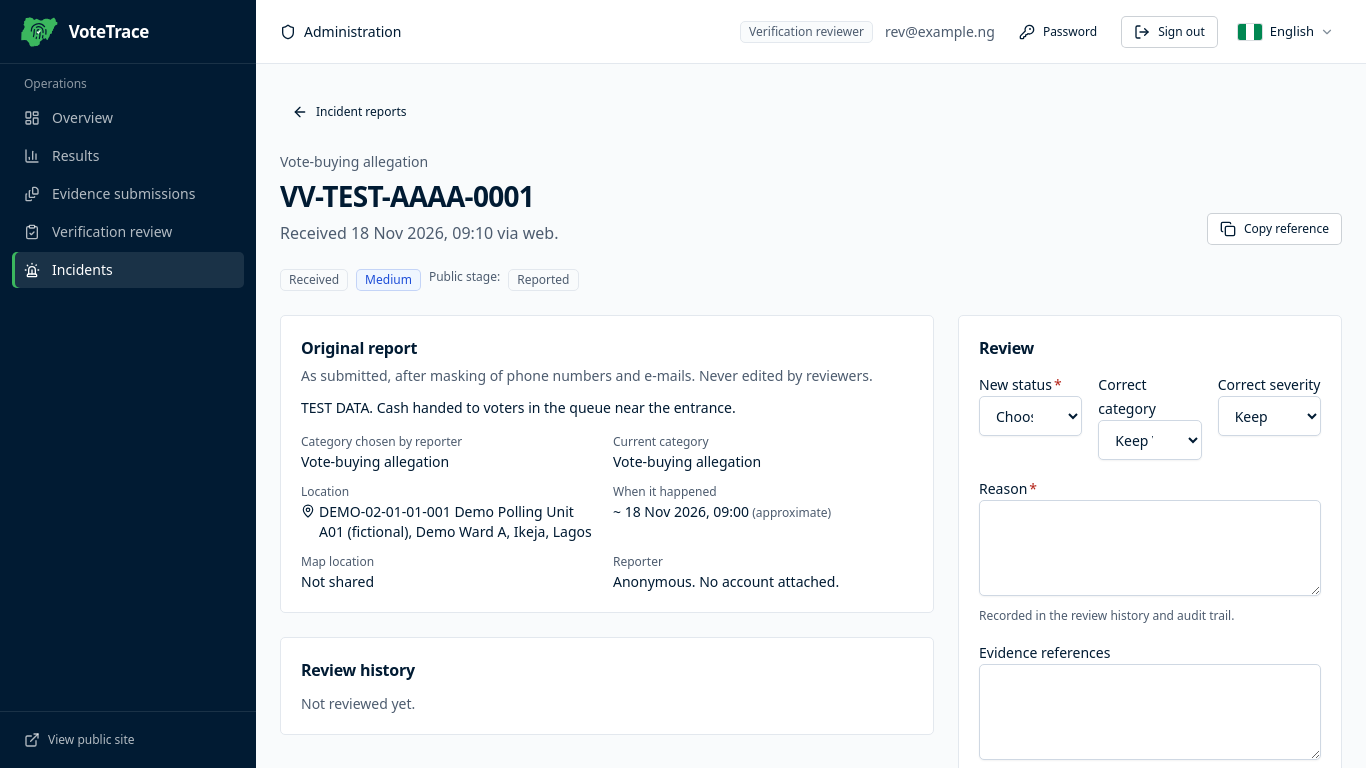
Test case: incident review area › lets a reviewer move a report on with a recorded reason
This screenshot has width=1366, height=768.
expect the heading "VV-TEST-AAAA-0001" is shown: met, box [280,178,558,215]
Select "Screening" in the dropdown labelled "New status*" at (1031, 416), box [979,396,1082,436]
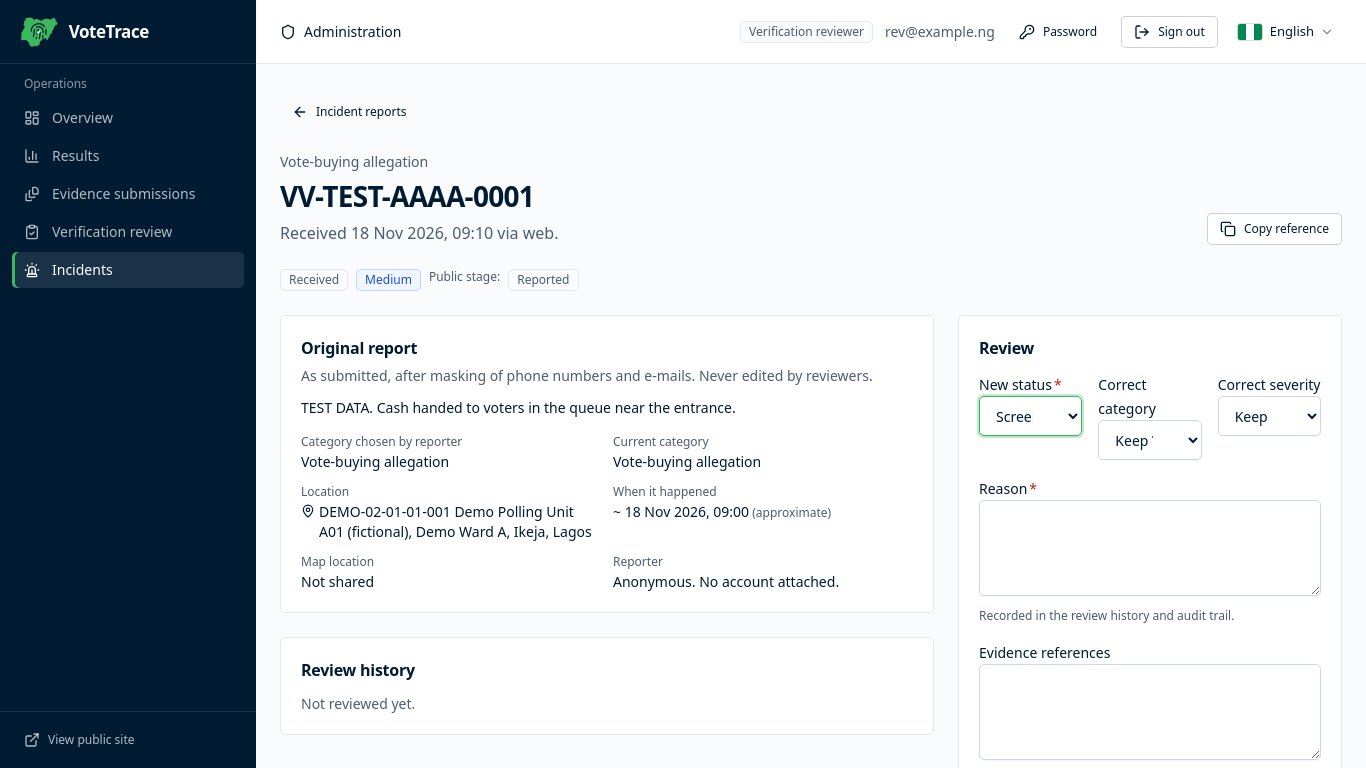
Type "Initial screening of the report." into the text box labelled "Reason*" at (1150, 548), box [979,500,1321,596]
(page scrolled)
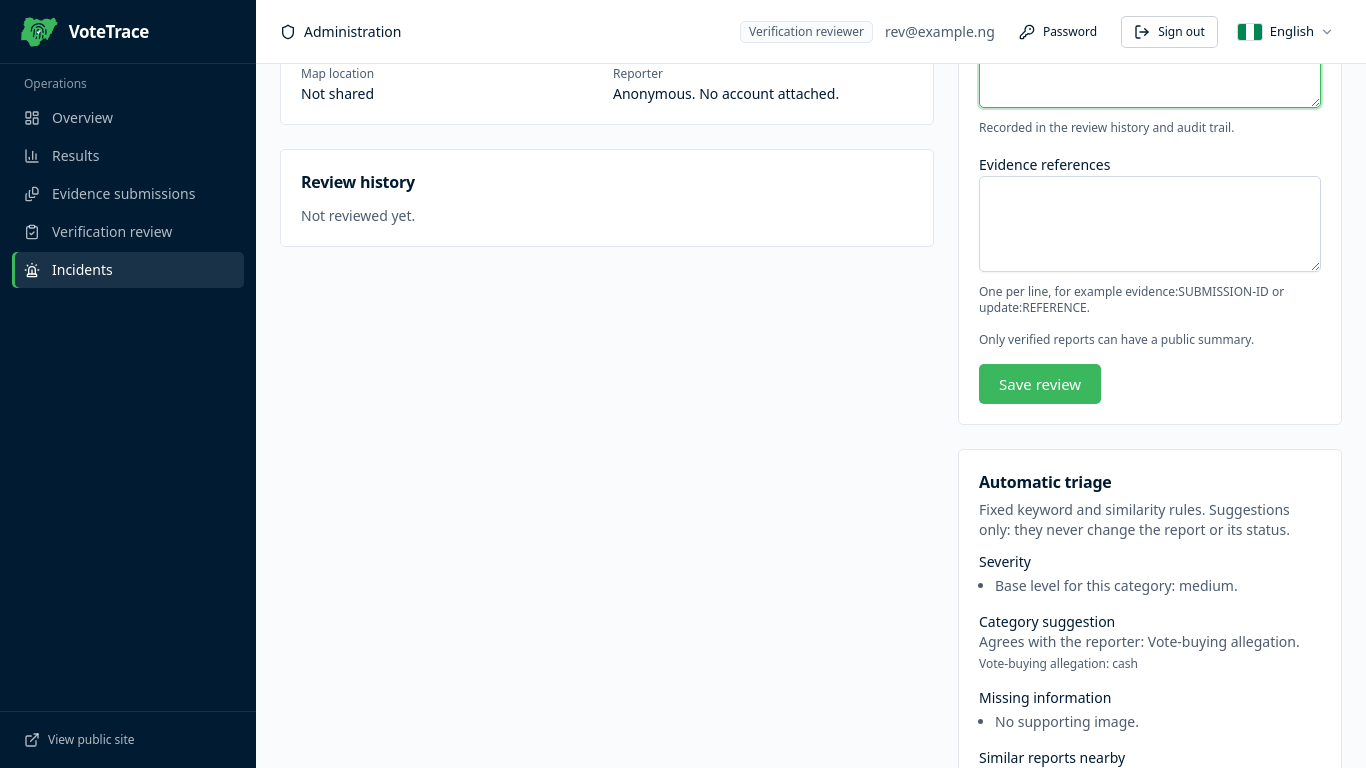
Click the button "Save review" at (1040, 384), box [979,364,1101,404]
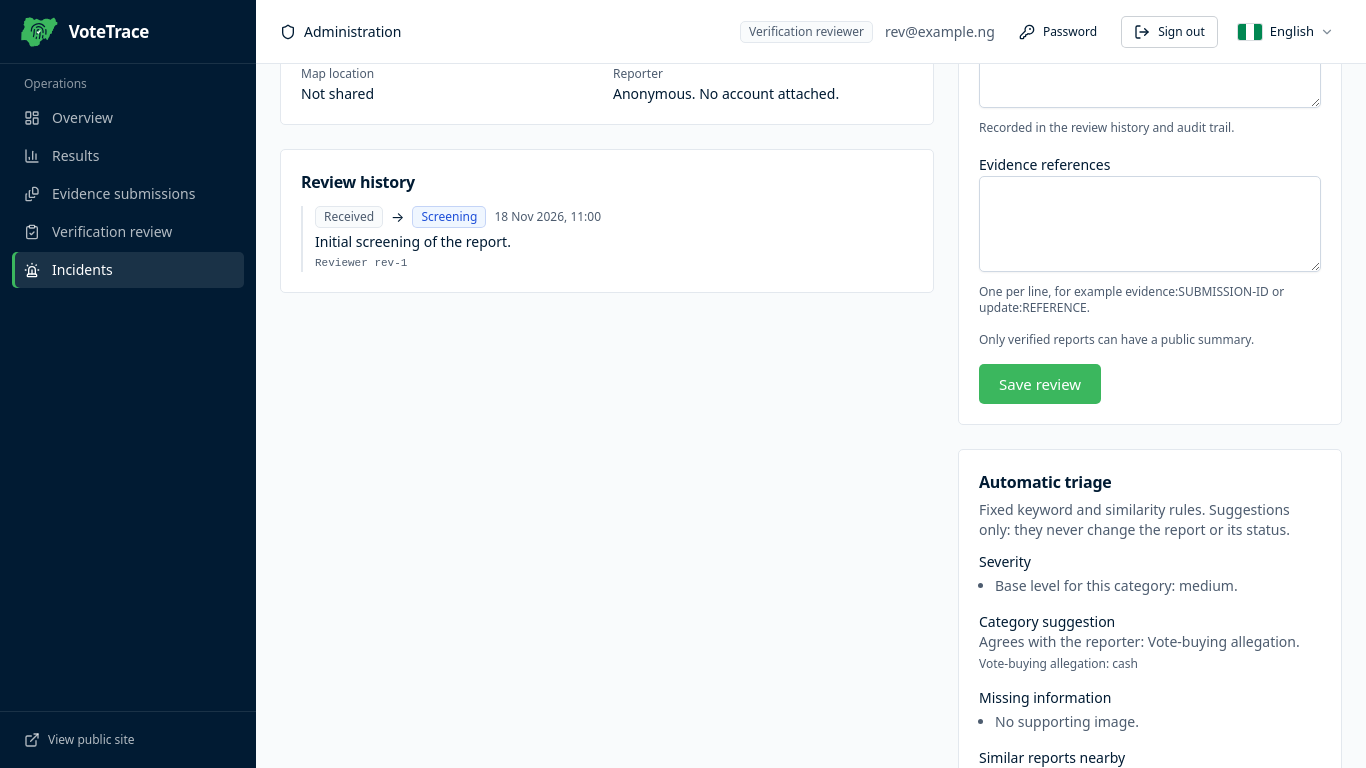
expect the text "Initial screening of the report." is shown: met, box [315,232,511,251]
